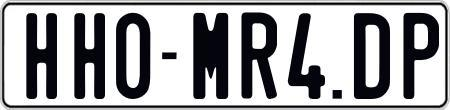0: (115, 10, 155, 101)
4: (288, 12, 331, 104)
D: (351, 13, 388, 99)
H: (25, 11, 58, 100), (71, 12, 104, 98)
M: (191, 13, 229, 99)
P: (401, 12, 431, 100)
R: (238, 11, 275, 101)
